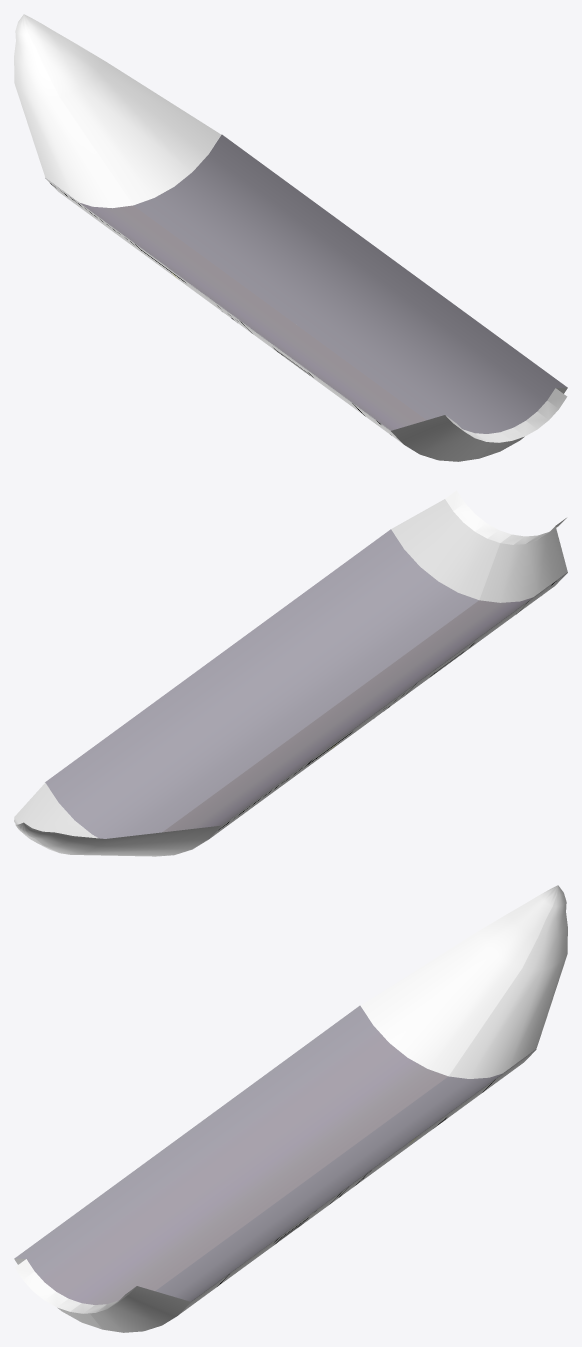
File: fairing612c.obj
3 views of the same model, one above another, from view 1: azimuth 30°, elevation 25°; view 2: azimuth 150°, elevation 25°; view 3: azimuth 330°, elevation 25° (orthographic).
Parts seen in each view (by area): view 1: group0, group1; view 2: group0, group1; view 3: group0, group1.
Part boxes in pixels (x1,y1,x2,y2): group0: [14, 14, 567, 442]; group1: [14, 64, 567, 461]; group0: [14, 490, 567, 856]; group1: [14, 518, 567, 856]; group0: [14, 885, 567, 1313]; group1: [14, 935, 567, 1332].
Bounding box in the file's own units: 4.17 × 2.5 × 19.87.
2 materials, 2 textured.
